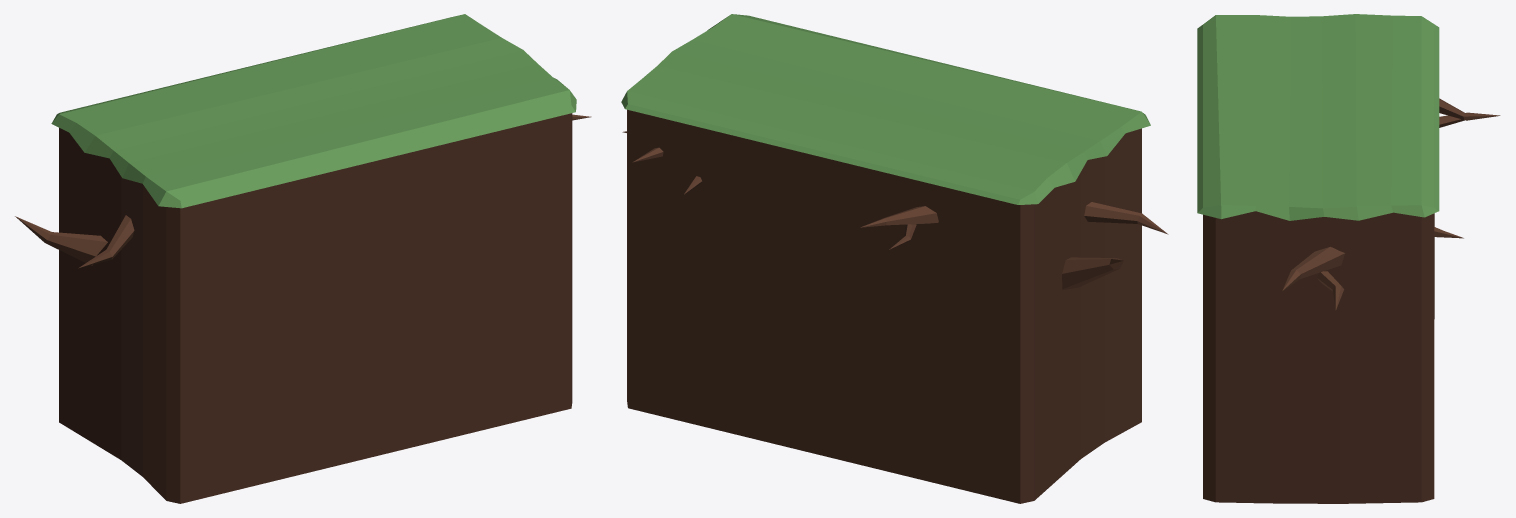
The model's file is Terreno.fbx.
The picture shows the model from 3 angles, left to right: view 1: azimuth 30°, elevation 25°; view 2: azimuth 150°, elevation 25°; view 3: azimuth 270°, elevation 25°; orthographic projection. The views are drawn at different scales.
Visible parts, largest first — view 1: Terreno; view 2: Terreno; view 3: Terreno.
Boxes of the visible parts, <box> form: Terreno: <box>15,14,591,503</box>; Terreno: <box>621,14,1168,503</box>; Terreno: <box>1197,14,1500,503</box>.
Size of the model in its own units: 898 by 506 by 467.
